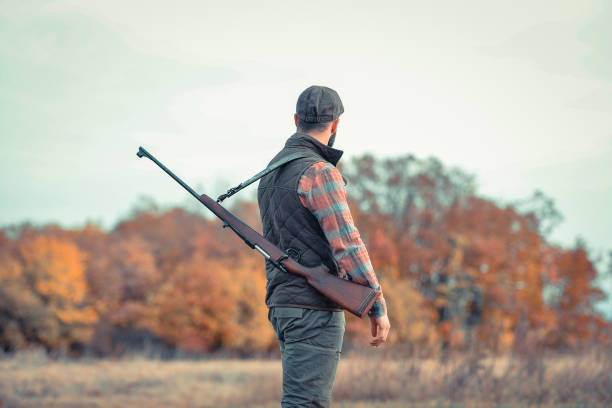gun: (134, 144, 380, 319)
